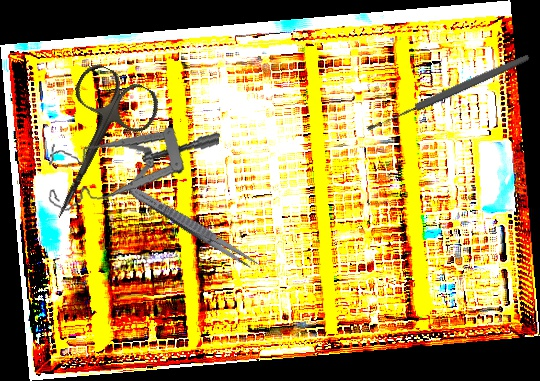Dressing Forceps: (124, 182, 263, 273)
Iris Scissors: (19, 59, 166, 236)
Speculum: (42, 109, 221, 231)
Surgical Spoon: (364, 52, 532, 134)
